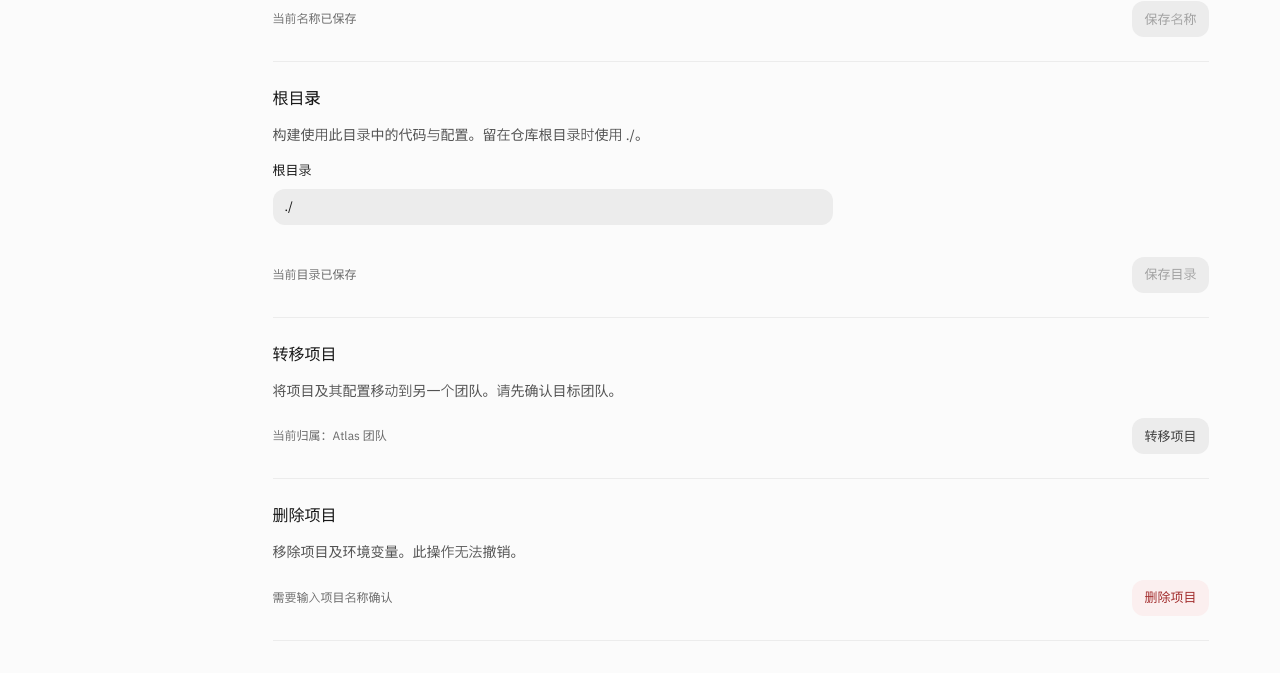
Test: requires the exact project name before deleting its environment data
This screenshot has width=1280, height=673.
(page scrolled)
Click the button "删除项目": (1170, 598) [1132,580,1208,616]
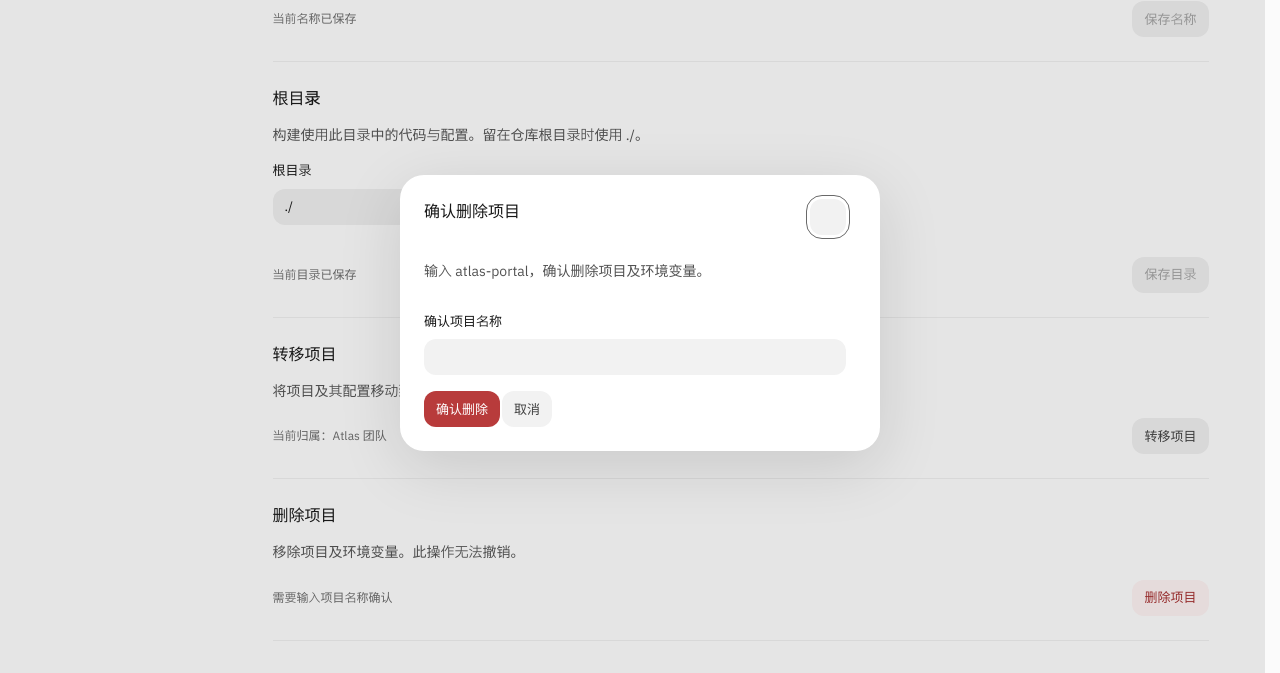
Click the button "确认删除": (462, 409) [424,391,500,427]
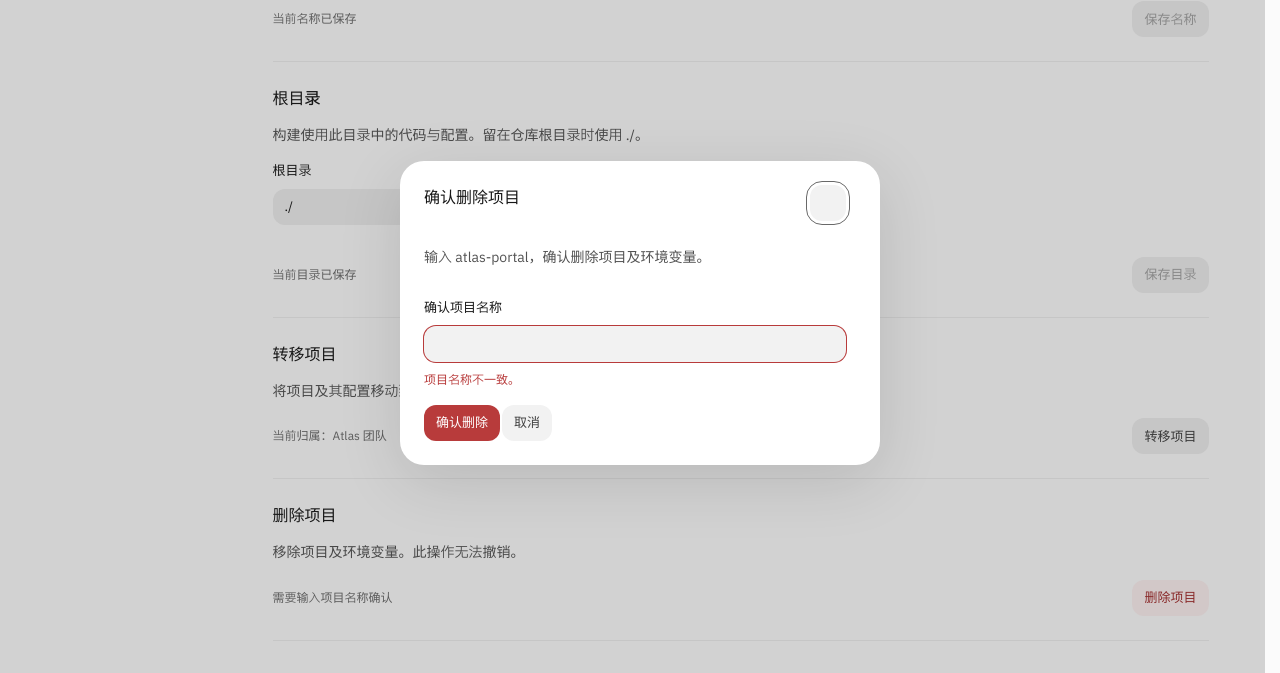
Result: the text "项目名称不一致。" is shown at [424,372,520,387]
In the field labelled "确认项目名称": (635, 344) [424,326,846,362], type "atlas-portal"
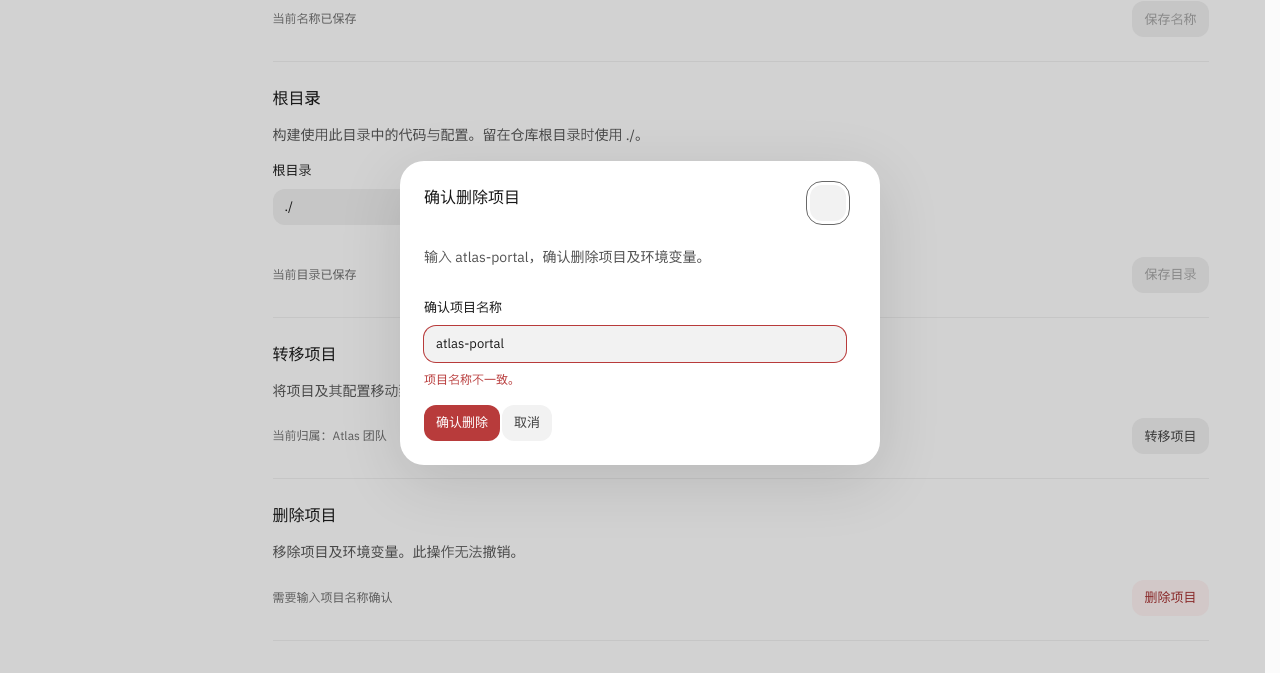
Click the button "确认删除": (462, 423) [424,405,500,441]
(page scrolled)
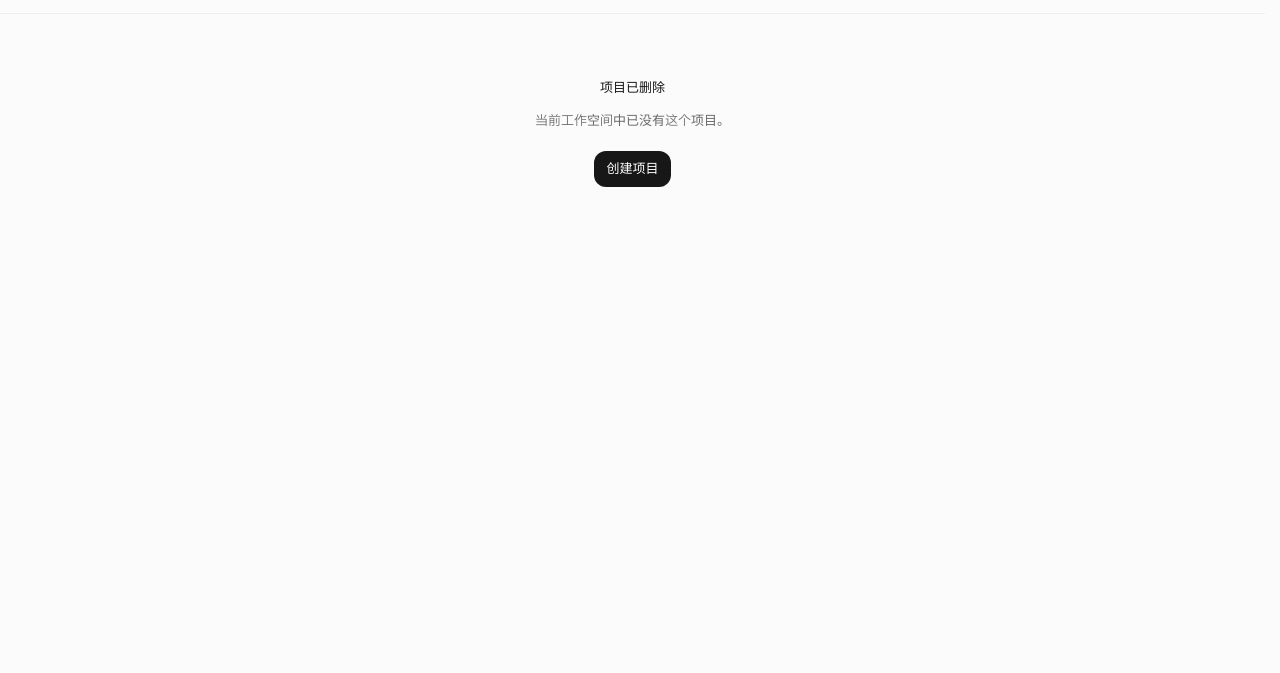
Result: the heading "项目已删除" is shown at [600,78,665,98]
